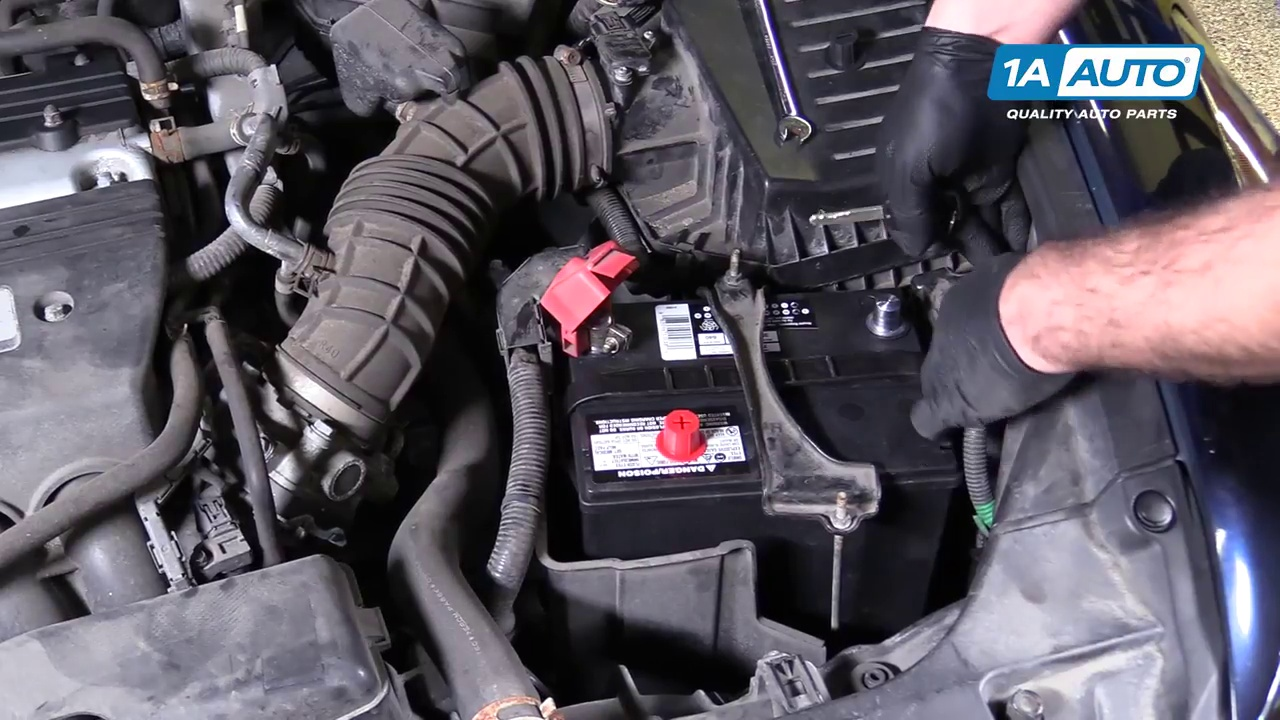battery: (551, 274, 945, 487)
neg_disconnected: (839, 268, 932, 351)
pos_connected: (527, 269, 654, 366)
